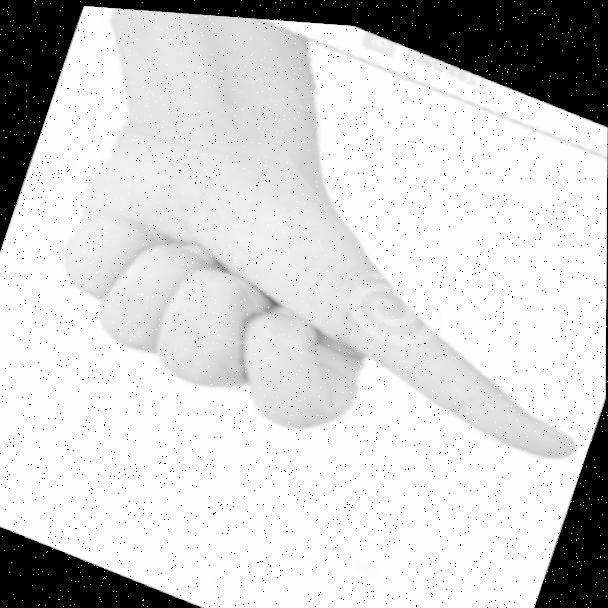five: (24, 88, 607, 525)
